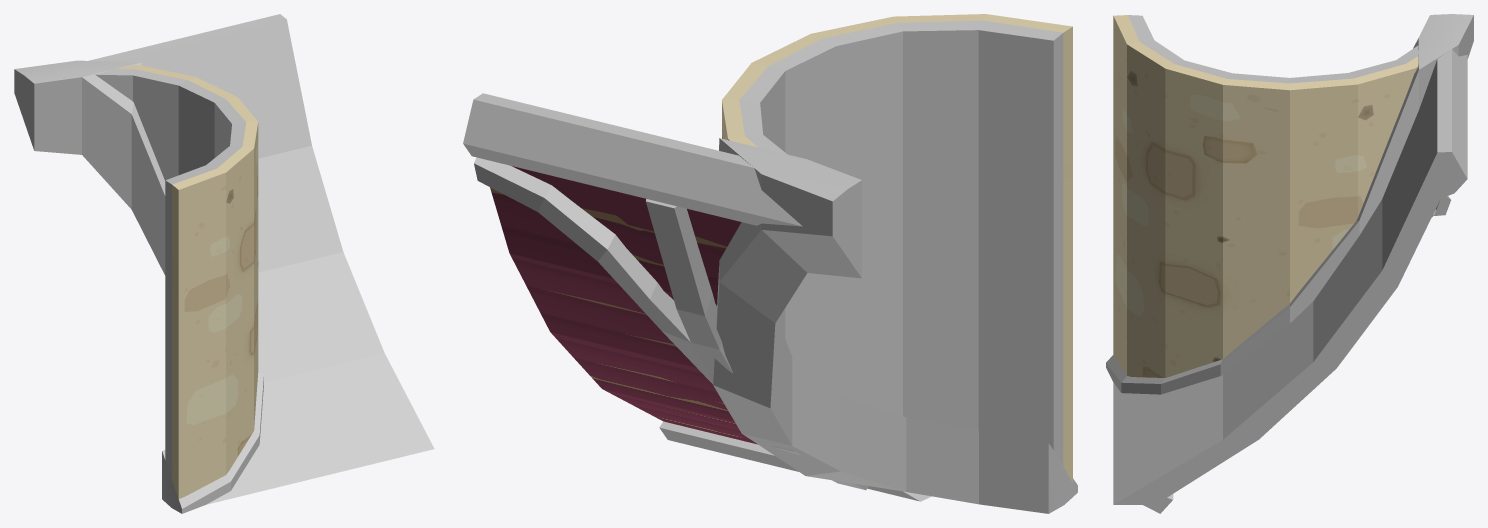
File: SM_Bld_Roof_Concave_Tower_01.fbx
3 renders of one model, left to right at view 1: azimuth 30°, elevation 25°; view 2: azimuth 150°, elevation 25°; view 3: azimuth 270°, elevation 25°, orthographic. The views are drawn at different scales.
Visible parts, largest first — view 1: SM_Bld_Roof_Concave_Tower_01; view 2: SM_Bld_Roof_Concave_Tower_01; view 3: SM_Bld_Roof_Concave_Tower_01.
Boxes of the visible parts, x1,y1,x2,y2 form: SM_Bld_Roof_Concave_Tower_01: [14, 14, 434, 513]; SM_Bld_Roof_Concave_Tower_01: [463, 14, 1077, 513]; SM_Bld_Roof_Concave_Tower_01: [1106, 14, 1473, 513].
Size of the model in its own units: 251 by 309 by 284.
